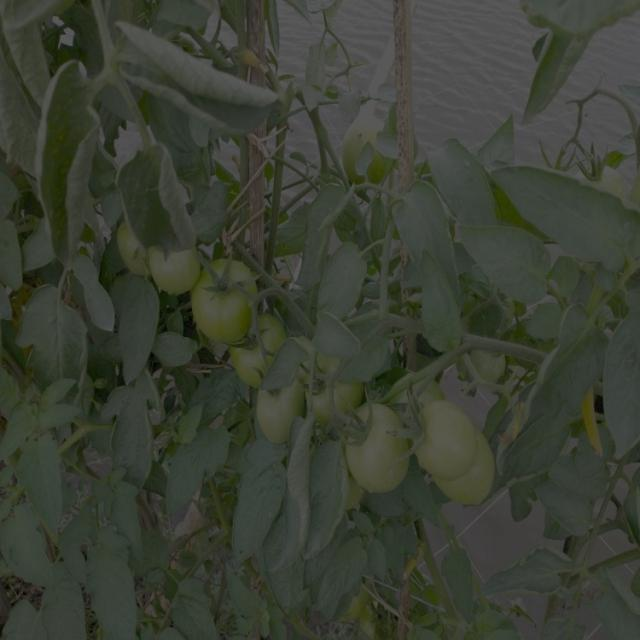tomato: (187, 254, 266, 342), (336, 401, 412, 489), (404, 398, 479, 473), (431, 442, 506, 514), (298, 362, 370, 413), (150, 243, 214, 297), (226, 311, 277, 371), (256, 386, 295, 435), (114, 225, 147, 277), (342, 116, 372, 169)
